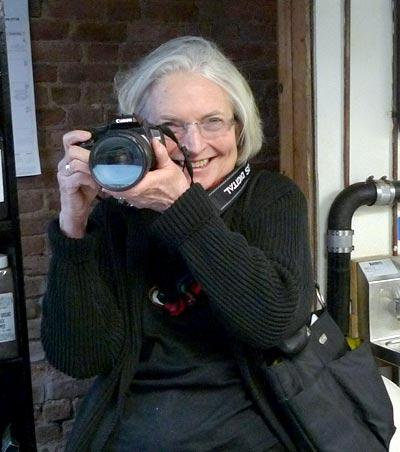person: (40, 36, 314, 452)
